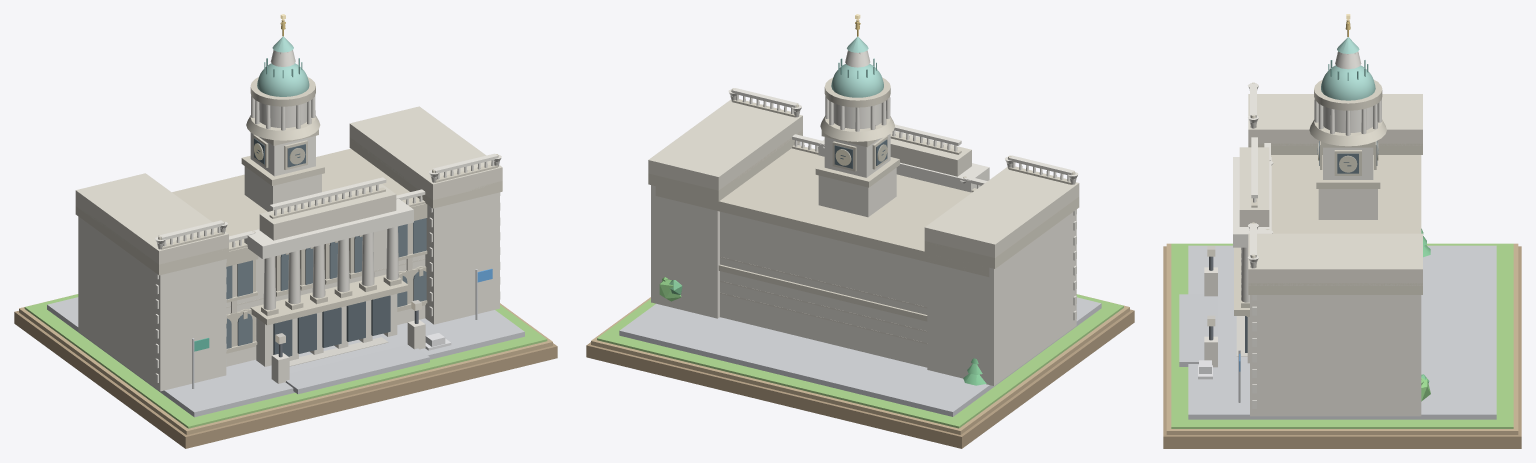
Rendered from townhall-built.glb.
3 views of the same model, side by side, from view 1: azimuth 30°, elevation 25°; view 2: azimuth 150°, elevation 25°; view 3: azimuth 270°, elevation 25° (orthographic). The views are drawn at different scales.
Bounding box in the file's own units: 39.4 × 32.78 × 31.4.
